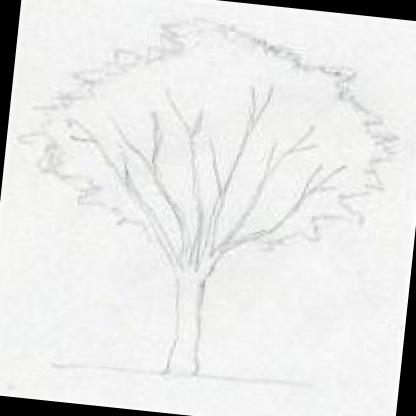branch_line: (63, 66, 350, 281)
crown_dizzy: (22, 4, 413, 269)
root_none: (122, 348, 264, 410)
trunk_straight: (166, 281, 206, 361)
